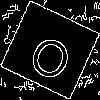O: (25, 25, 79, 84)
